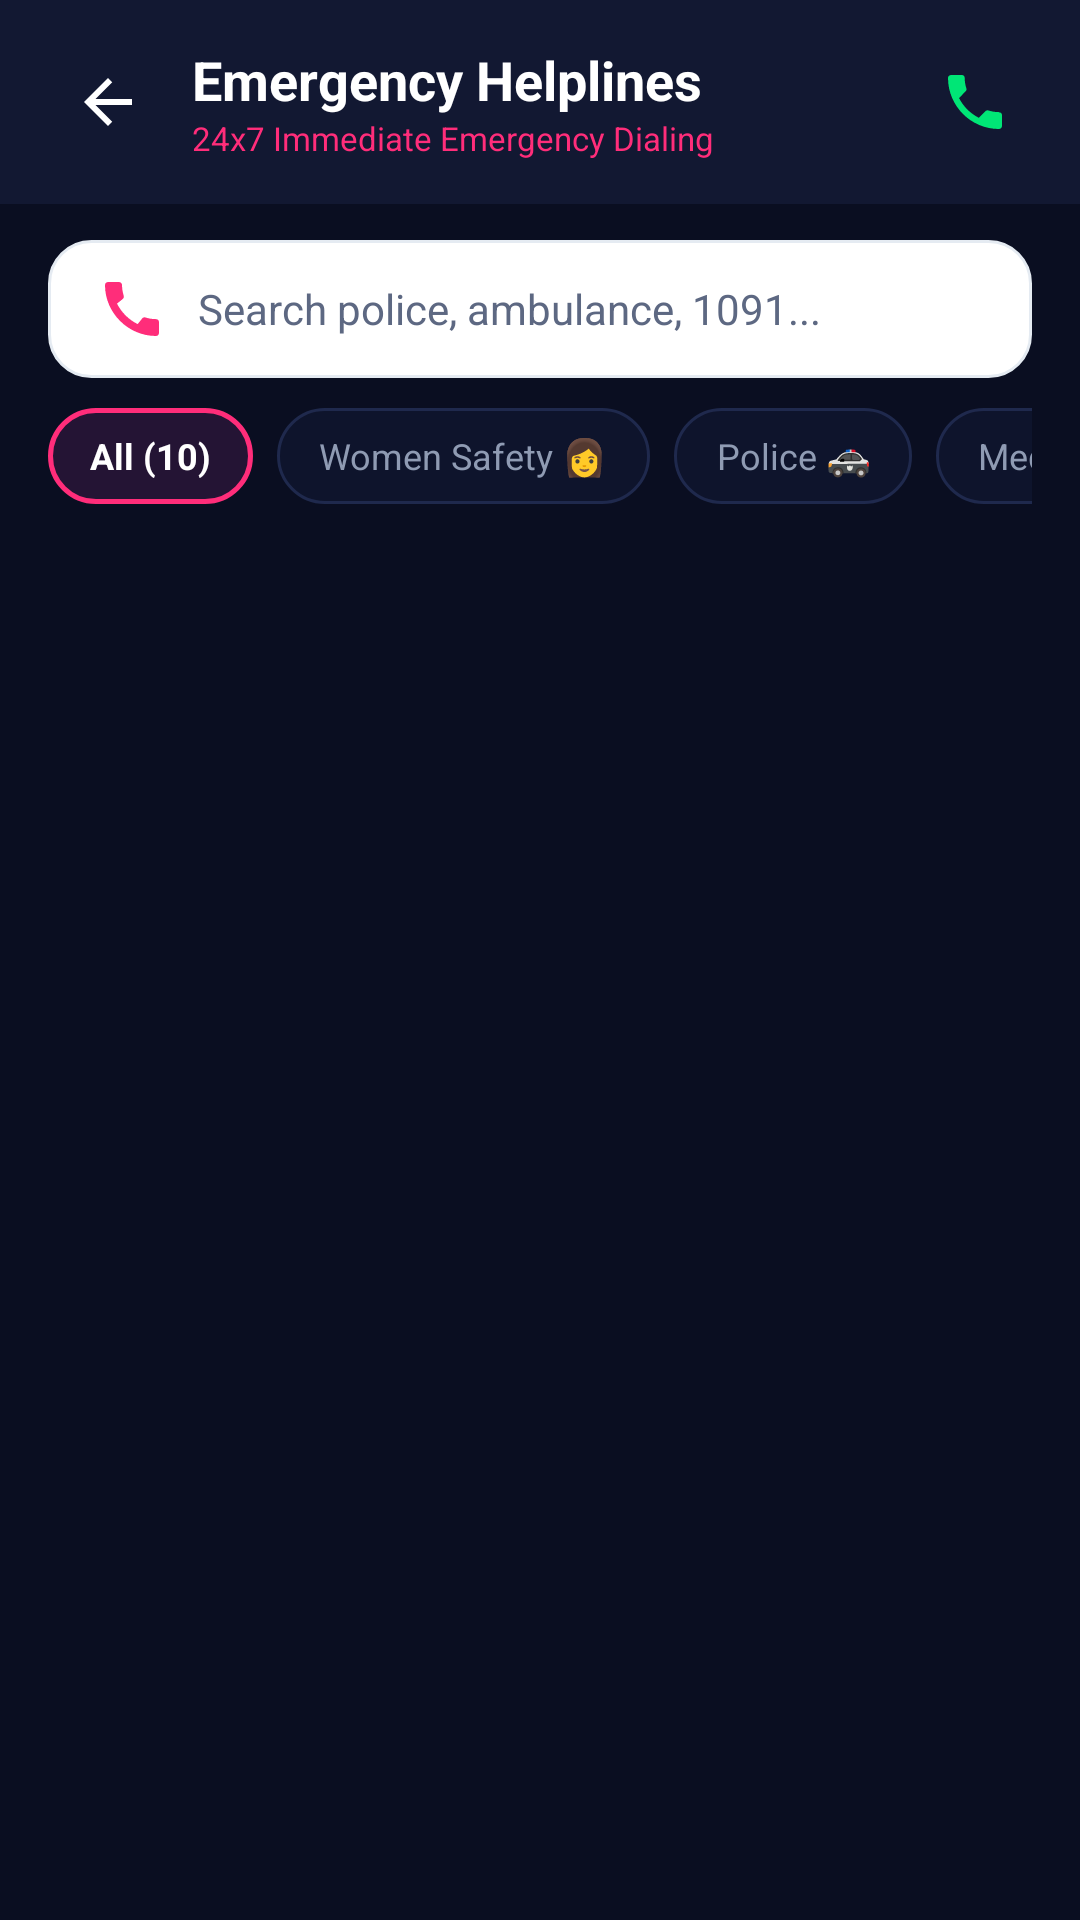

Where icons sit on this 1080x1920 app screen, as box(x1, y1, x2, y2):
Back: box(84, 78, 132, 126)
Quick Dial 112: box(948, 75, 1002, 129)
